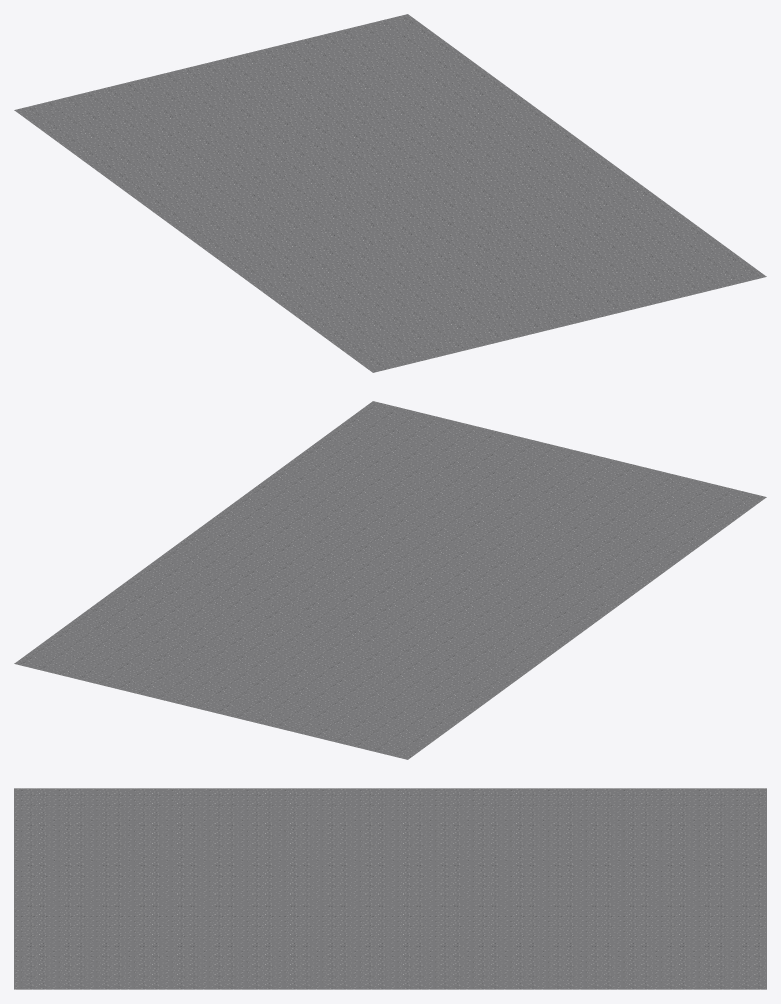
Rendered from necroPOLY_Ground_01a.fbx.
3 renders of one model, top to bottom at view 1: azimuth 30°, elevation 25°; view 2: azimuth 150°, elevation 25°; view 3: azimuth 270°, elevation 25°, orthographic. The views are drawn at different scales.
Visible parts, largest first — view 1: necroPOLY_Ground_01a_LOD0; view 2: necroPOLY_Ground_01a_LOD0; view 3: necroPOLY_Ground_01a_LOD0.
Part boxes in pixels (x1,y1,x2,y2): necroPOLY_Ground_01a_LOD0: (14, 14, 766, 372); necroPOLY_Ground_01a_LOD0: (14, 401, 766, 759); necroPOLY_Ground_01a_LOD0: (14, 788, 766, 989).
Size of what is drawn, in the model's own units: 380 by 0.2753 by 600.
